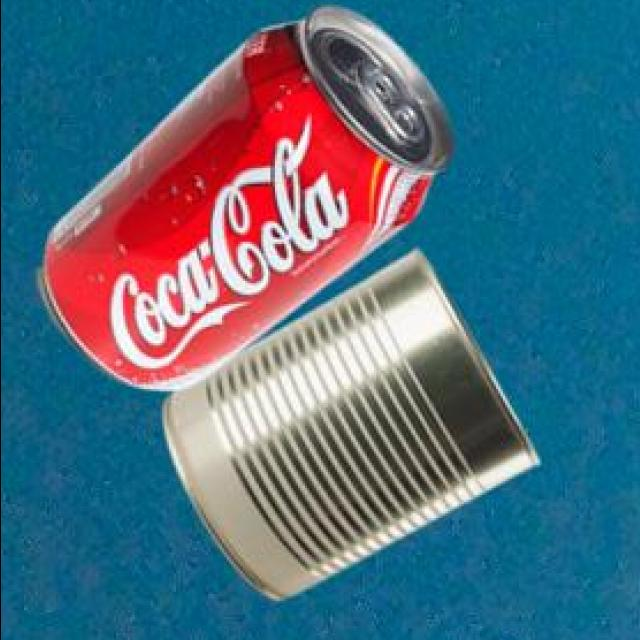logam: (40, 1, 455, 386), (167, 247, 542, 597)
